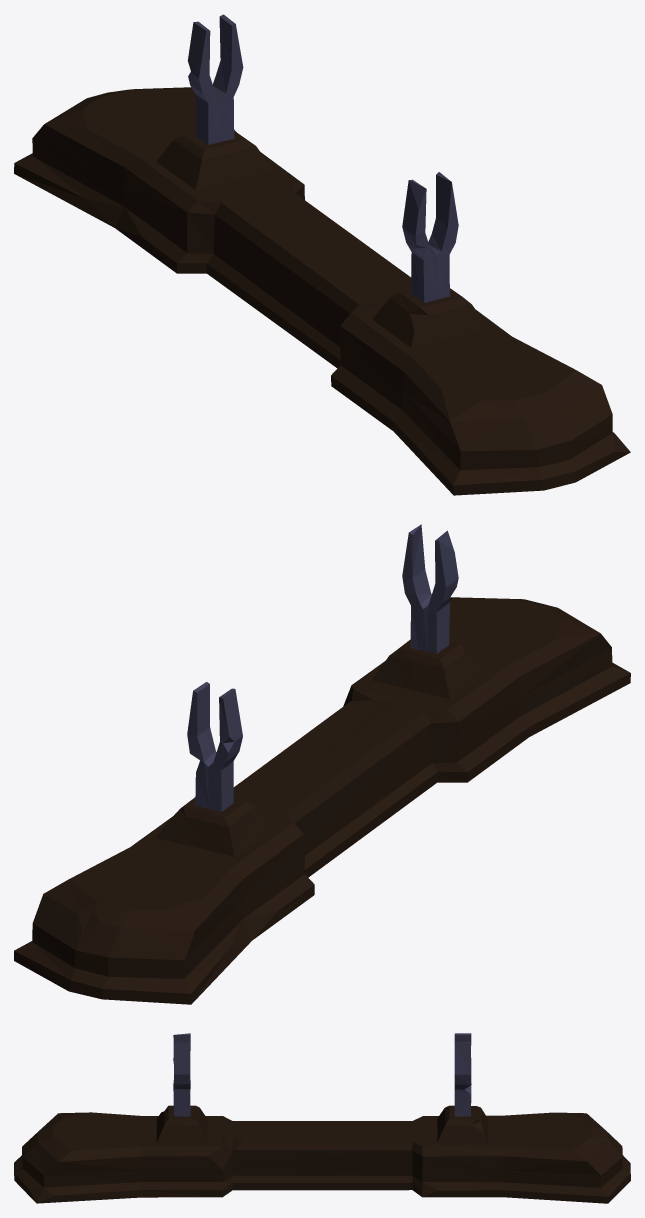
The model's file is SFFA_Sword_Stand.fbx.
The picture shows the model from 3 angles, top to bottom: view 1: azimuth 30°, elevation 25°; view 2: azimuth 150°, elevation 25°; view 3: azimuth 270°, elevation 25°; orthographic projection. The views are drawn at different scales.
Visible parts, largest first — view 1: SFFA_Sword_Stand; view 2: SFFA_Sword_Stand; view 3: SFFA_Sword_Stand.
Part boxes in pixels (left/top/right/bottom): SFFA_Sword_Stand: left=14, top=14, right=630, bottom=495; SFFA_Sword_Stand: left=14, top=524, right=630, bottom=1004; SFFA_Sword_Stand: left=14, top=1033, right=630, bottom=1203.
Bounding box in the file's own units: 16.59 × 18.87 × 76.48.
